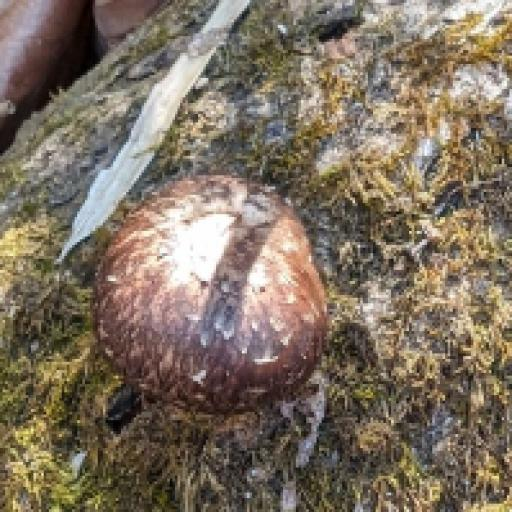Shiitake Mushroom: (95, 186, 329, 410)
